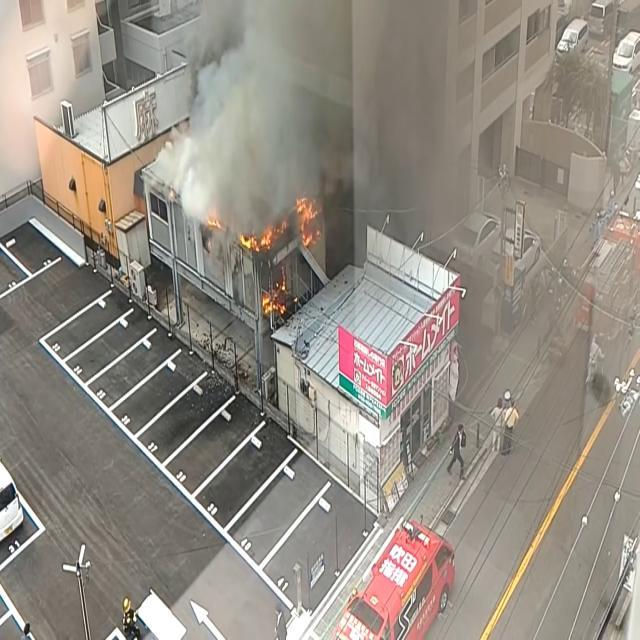Fire: (293, 190, 322, 247), (238, 223, 274, 257)
Smoke: (167, 1, 487, 250), (167, 0, 353, 244)
